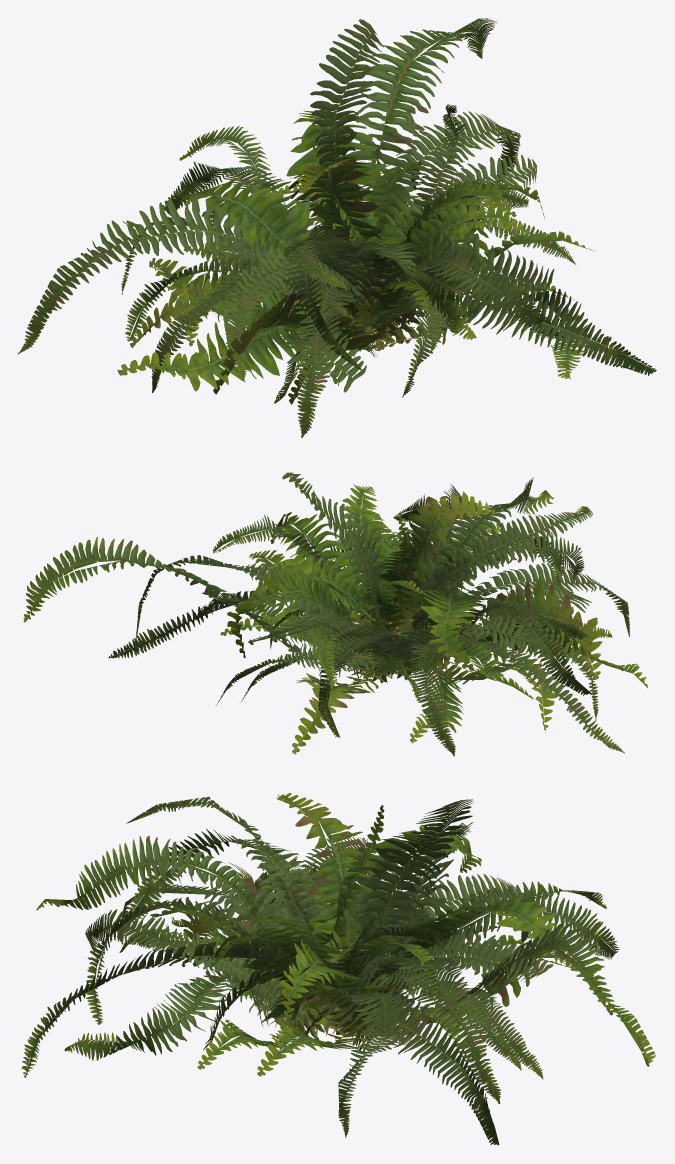
File: fern_02_LOD1.fbx
3 views of the same model, one above another, from view 1: azimuth 30°, elevation 25°; view 2: azimuth 150°, elevation 25°; view 3: azimuth 270°, elevation 25° (orthographic). The views are drawn at different scales.
Visible parts, largest first — view 1: fern_02_b.001, fern_02_c.001, fern_02_d.001, fern_02_a.001; view 2: fern_02_b.001, fern_02_c.001, fern_02_a.001, fern_02_d.001; view 3: fern_02_b.001, fern_02_c.001, fern_02_a.001, fern_02_d.001.
Part boxes in pixels (x1,y1,x2,y2): fern_02_b.001: [17, 18, 656, 437]; fern_02_c.001: [117, 120, 587, 405]; fern_02_d.001: [149, 179, 575, 403]; fern_02_a.001: [182, 104, 554, 351]; fern_02_b.001: [23, 472, 629, 754]; fern_02_c.001: [108, 484, 647, 756]; fern_02_a.001: [213, 514, 533, 705]; fern_02_d.001: [269, 519, 612, 743]; fern_02_b.001: [21, 793, 655, 1137]; fern_02_c.001: [64, 796, 606, 1145]; fern_02_a.001: [119, 866, 553, 1079]; fern_02_d.001: [131, 861, 542, 1069].
Size of the model in its own units: 0.9903 by 0.4261 by 0.895.
Materials: 1 (1 with a texture image).
